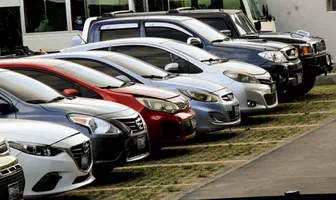Car: (97, 7, 334, 94), (87, 16, 304, 101), (0, 58, 198, 150), (28, 51, 242, 133), (61, 38, 279, 114), (0, 69, 150, 176), (20, 0, 277, 53), (0, 119, 95, 197), (0, 136, 25, 200), (71, 16, 97, 47)
